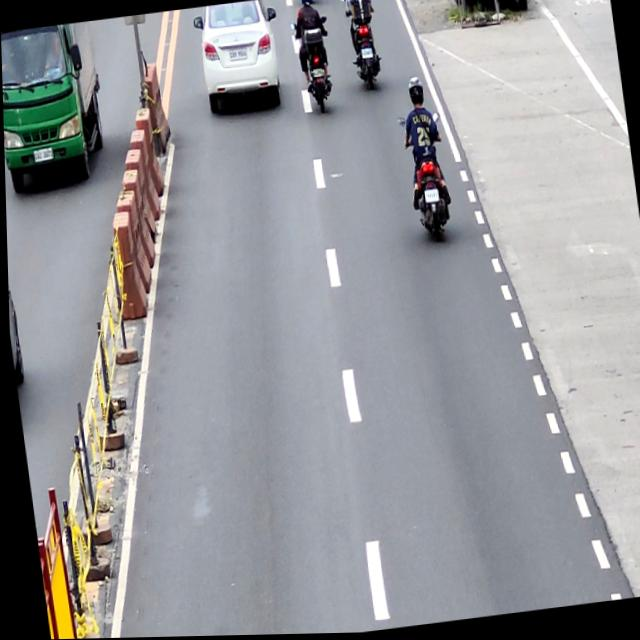Car: (191, 0, 288, 117)
License-Plate: (227, 48, 248, 63), (422, 189, 438, 206), (359, 49, 373, 62), (311, 67, 324, 80)
Motorcycle: (397, 114, 456, 250), (288, 14, 339, 117), (338, 0, 385, 91)
